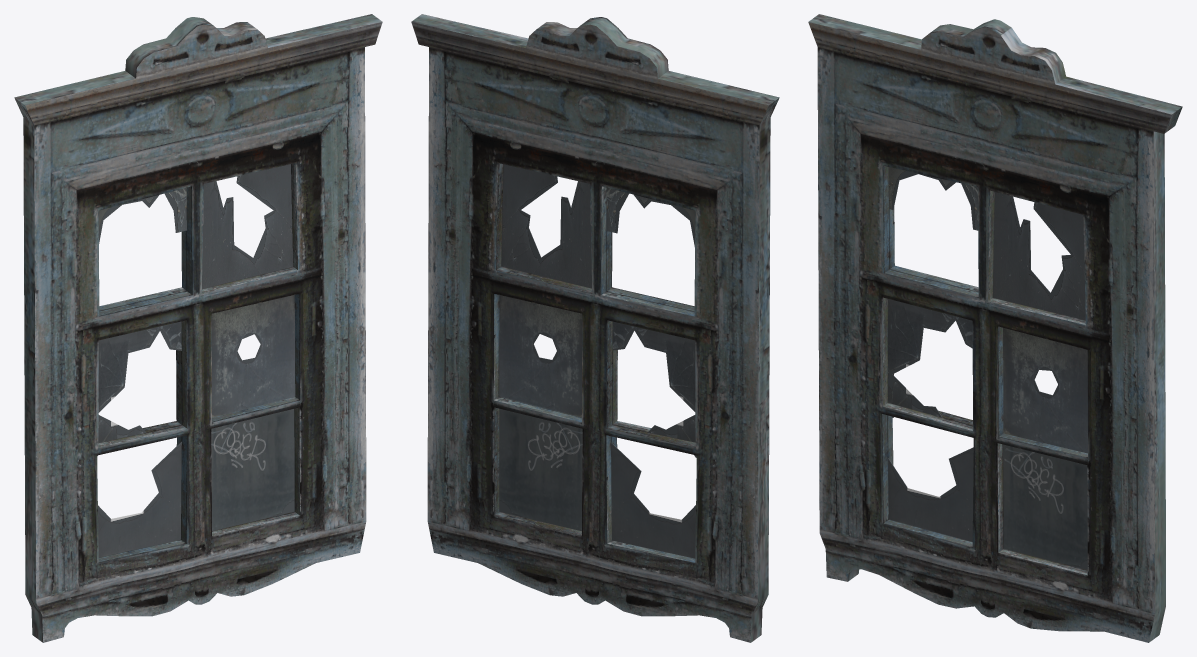
Rendered from Windows_08_2.FBX.
The picture shows the model from 3 angles, left to right: view 1: azimuth 30°, elevation 25°; view 2: azimuth 150°, elevation 25°; view 3: azimuth 330°, elevation 25°; orthographic projection.
Parts seen in each view (by area): view 1: Windows_08_2, Windows_08_2glass (×6); view 2: Windows_08_2, Windows_08_2glass (×6); view 3: Windows_08_2, Windows_08_2glass (×6).
Boxes of the visible parts, x1,y1,x2,y2 form: Windows_08_2: (14, 14, 382, 642); Windows_08_2glass (×6): (97, 164, 295, 557); Windows_08_2: (411, 14, 779, 642); Windows_08_2glass (×6): (499, 164, 696, 558); Windows_08_2: (808, 14, 1182, 642); Windows_08_2glass (×6): (888, 167, 1087, 569).
Bounding box in the file's own units: 139 × 7.26 × 216.
2 materials, 2 textured.
